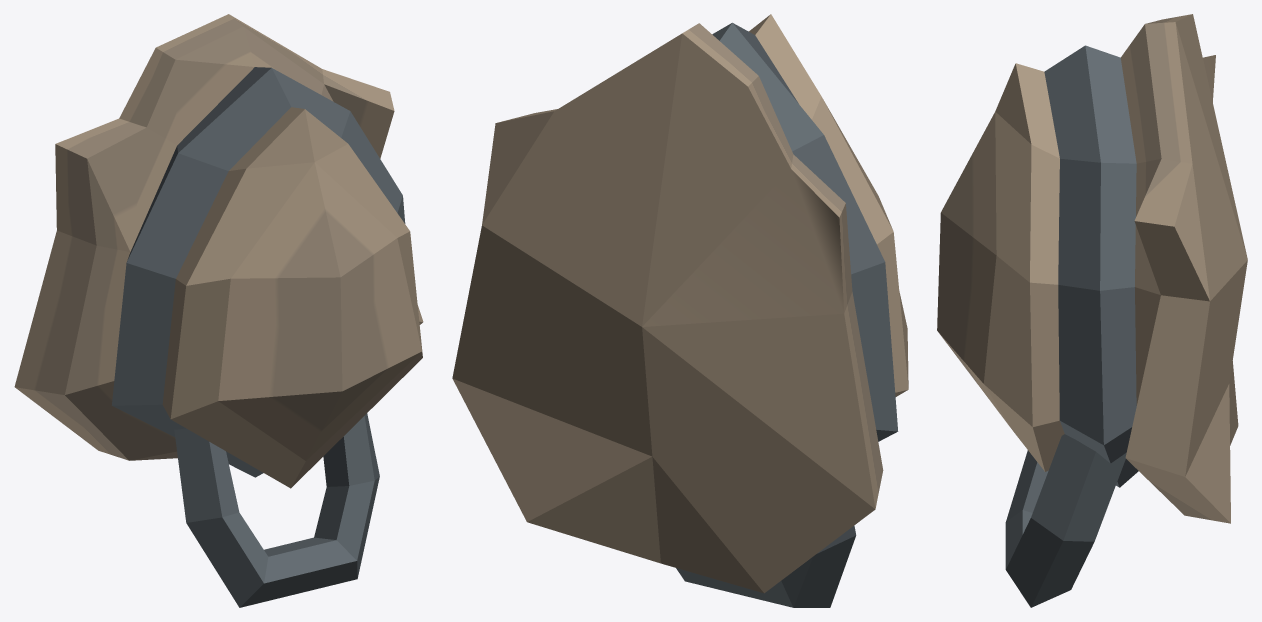
Rendered from SM_Prop_Gas_Mask_02.fbx.
3 views of the same model, side by side, from view 1: azimuth 30°, elevation 25°; view 2: azimuth 150°, elevation 25°; view 3: azimuth 270°, elevation 25° (orthographic). The views are drawn at different scales.
Visible parts, largest first — view 1: SM_Prop_Gas_Mask_02; view 2: SM_Prop_Gas_Mask_02; view 3: SM_Prop_Gas_Mask_02.
Part boxes in pixels (box(x1,y1,x2,y2)): SM_Prop_Gas_Mask_02: box(14, 14, 423, 607); SM_Prop_Gas_Mask_02: box(452, 14, 908, 607); SM_Prop_Gas_Mask_02: box(937, 14, 1247, 607).
Bounding box in the file's own units: 14.85 × 19.63 × 9.96.
